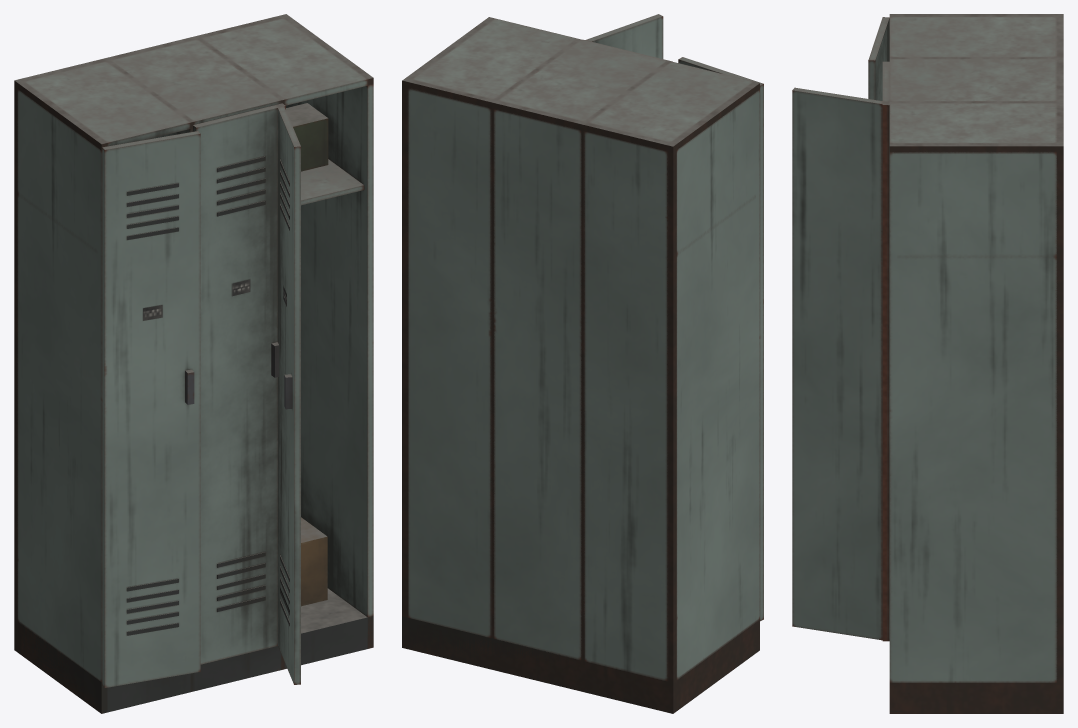
Rendered from SM_Lockers_Triple.fbx.
3 renders of one model, left to right at view 1: azimuth 30°, elevation 25°; view 2: azimuth 150°, elevation 25°; view 3: azimuth 270°, elevation 25°, orthographic.
Parts seen in each view (by area): view 1: SM_Lockers_Triple; view 2: SM_Lockers_Triple; view 3: SM_Lockers_Triple.
Boxes of the visible parts, x1=… form: SM_Lockers_Triple: x1=14, y1=14, x2=373, y2=713; SM_Lockers_Triple: x1=402, y1=14, x2=763, y2=713; SM_Lockers_Triple: x1=792, y1=14, x2=1063, y2=713.
Bounding box in the file's own units: 0.9008 × 1.8 × 0.78.
Materials: 1 (1 with a texture image).
